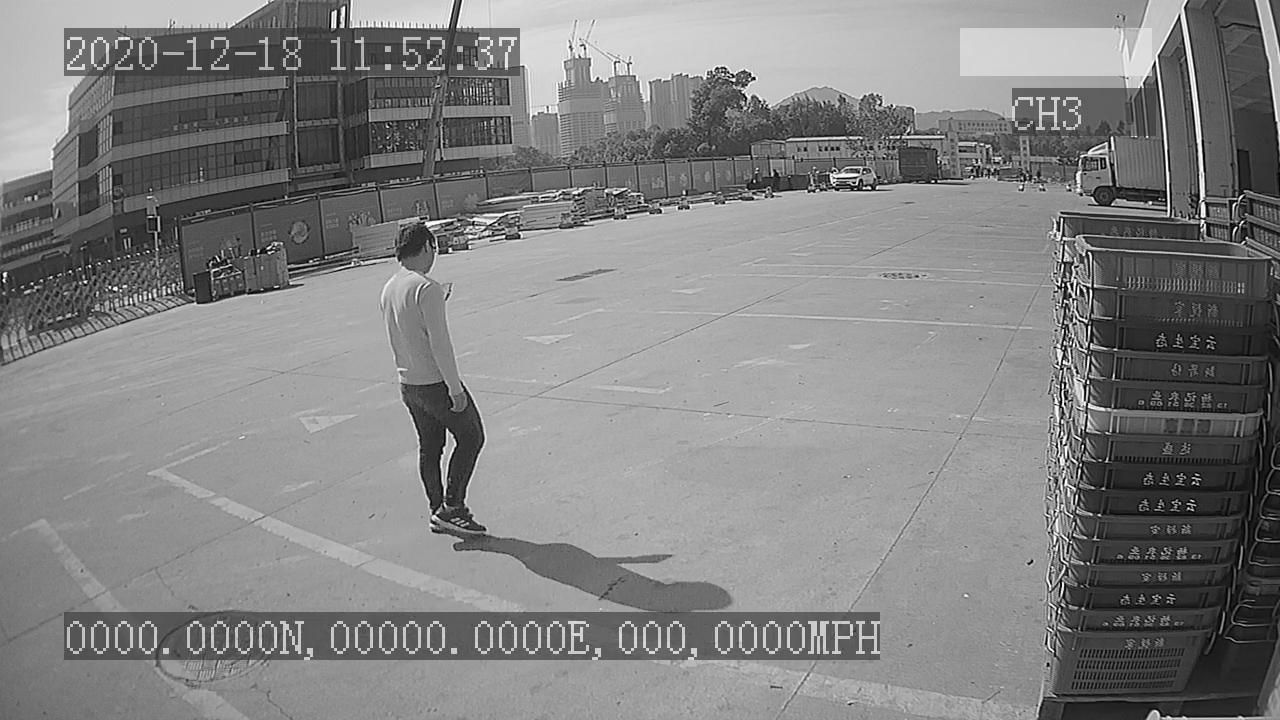person: (368, 213, 495, 540)
